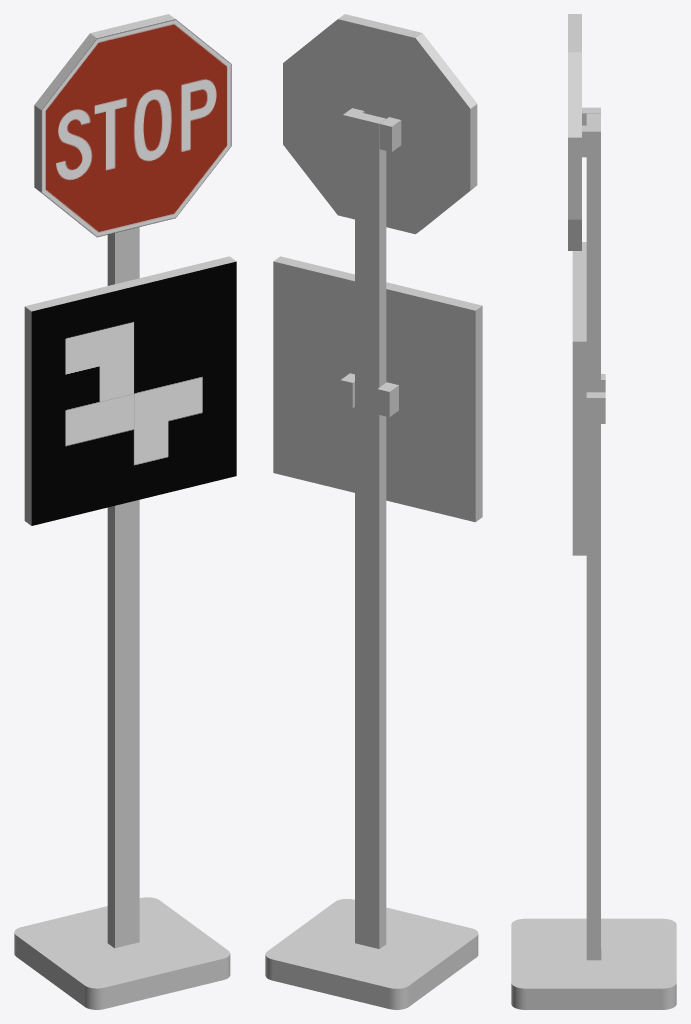
Rendered from parar_aruco.dae.
3 views of the same model, side by side, from view 1: azimuth 30°, elevation 25°; view 2: azimuth 150°, elevation 25°; view 3: azimuth 270°, elevation 25° (orthographic).
Parts seen in each view (by area): view 1: dd9cfb40-87a9-4845-a580-deee670e17b5, f16ab827-c8db-44ad-8351-98a68e8c8021, ac2d348f-a941-4c5f-a1d3-274699b45604, aaf86a1d-f1b8-4b4f-8e03-f511772d392b, aa319539-d214-4460-8a66-c547fe626b2a, e8bf550e-5cbb-4fa2-b5a8-44181715a2fd, affb756f-2eaa-49b0-bbab-2e4c1d374448, a3239a45-068f-4fff-8638-b8f9eef0ec18, afa9f1d7-e452-4b62-a9ee-2b0ea102e5f1; view 2: aeb797c5-7ae0-4d98-ba49-dc1c72008d5d, a81e7bbf-538f-4e6f-8568-219de0b86c3f, ac2d348f-a941-4c5f-a1d3-274699b45604, aaf86a1d-f1b8-4b4f-8e03-f511772d392b, aa319539-d214-4460-8a66-c547fe626b2a, e8bf550e-5cbb-4fa2-b5a8-44181715a2fd, affb756f-2eaa-49b0-bbab-2e4c1d374448, e544ebb8-8e3b-42a7-b1a7-fa8f0314c642, ab1dc72f-5673-49ba-8308-1599ac3c5606, a3239a45-068f-4fff-8638-b8f9eef0ec18, afa9f1d7-e452-4b62-a9ee-2b0ea102e5f1; view 3: aaf86a1d-f1b8-4b4f-8e03-f511772d392b, ac2d348f-a941-4c5f-a1d3-274699b45604, acc026e0-a756-4e88-afe9-e1c122486126, e8bf550e-5cbb-4fa2-b5a8-44181715a2fd, a5a4ca45-1cb7-46af-a212-c8e4e75674c3, ff376cb0-eec7-4c27-8e24-11034c160b41, d3c90ac1-e406-4a23-8234-c33b82ca2367, ab4e0a0c-c91b-4db7-9770-f851545b0bad, afa9f1d7-e452-4b62-a9ee-2b0ea102e5f1, a1b89be7-c4f5-472a-a773-3df350ab8ebc.
Boxes of the visible parts, x1,y1,x2,y2 form: dd9cfb40-87a9-4845-a580-deee670e17b5: (31,261,236,525); f16ab827-c8db-44ad-8351-98a68e8c8021: (41,19,231,237); ac2d348f-a941-4c5f-a1d3-274699b45604: (107,227,139,948); aaf86a1d-f1b8-4b4f-8e03-f511772d392b: (14,897,230,1009); aa319539-d214-4460-8a66-c547fe626b2a: (24,307,31,525); e8bf550e-5cbb-4fa2-b5a8-44181715a2fd: (25,256,236,311); affb756f-2eaa-49b0-bbab-2e4c1d374448: (34,33,96,109); a3239a45-068f-4fff-8638-b8f9eef0ec18: (34,105,41,192); afa9f1d7-e452-4b62-a9ee-2b0ea102e5f1: (90,14,175,38); aeb797c5-7ae0-4d98-ba49-dc1c72008d5d: (273,261,475,522); a81e7bbf-538f-4e6f-8568-219de0b86c3f: (283,19,470,234); ac2d348f-a941-4c5f-a1d3-274699b45604: (355,113,386,948); aaf86a1d-f1b8-4b4f-8e03-f511772d392b: (265,899,478,1009); aa319539-d214-4460-8a66-c547fe626b2a: (475,306,482,521); e8bf550e-5cbb-4fa2-b5a8-44181715a2fd: (273,256,481,310); affb756f-2eaa-49b0-bbab-2e4c1d374448: (416,33,477,108); e544ebb8-8e3b-42a7-b1a7-fa8f0314c642: (379,117,401,151); ab1dc72f-5673-49ba-8308-1599ac3c5606: (377,382,398,417); a3239a45-068f-4fff-8638-b8f9eef0ec18: (470,104,477,189); afa9f1d7-e452-4b62-a9ee-2b0ea102e5f1: (338,14,421,37); aaf86a1d-f1b8-4b4f-8e03-f511772d392b: (511,918,676,1009); ac2d348f-a941-4c5f-a1d3-274699b45604: (586,113,600,960); acc026e0-a756-4e88-afe9-e1c122486126: (572,341,586,555); e8bf550e-5cbb-4fa2-b5a8-44181715a2fd: (572,242,586,341); a5a4ca45-1cb7-46af-a212-c8e4e75674c3: (568,52,581,137); ff376cb0-eec7-4c27-8e24-11034c160b41: (568,137,581,219); d3c90ac1-e406-4a23-8234-c33b82ca2367: (586,392,605,423); ab4e0a0c-c91b-4db7-9770-f851545b0bad: (582,125,600,157); afa9f1d7-e452-4b62-a9ee-2b0ea102e5f1: (568,14,581,52); a1b89be7-c4f5-472a-a773-3df350ab8ebc: (568,219,581,250).
Bounding box in the file's own units: 0.05 × 0.035 × 0.2202.
2 materials, 2 textured.
